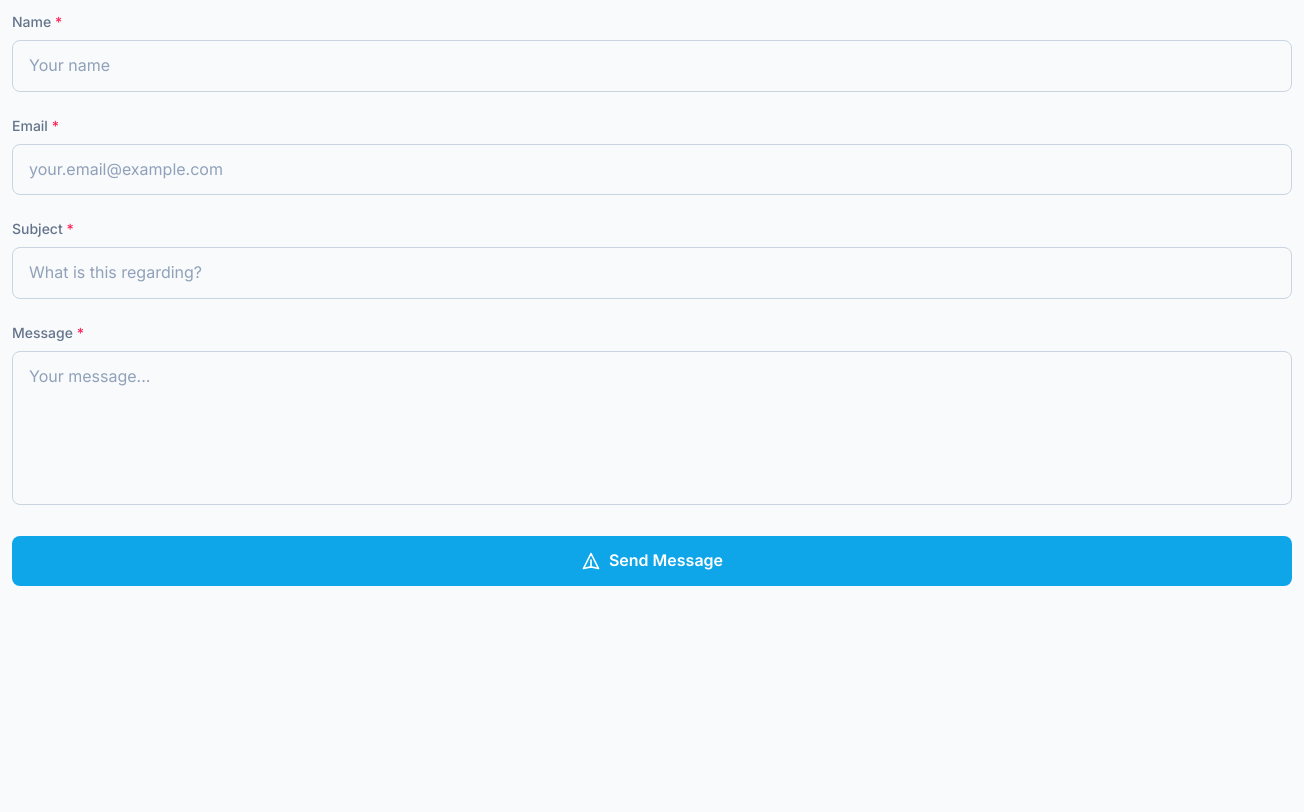
ContactForm Component › shows error for invalid email on submit
This screenshot has width=1304, height=812.
Type "John Doe" into the field labelled "Name *" at (652, 66), box [12,40,1292,92]
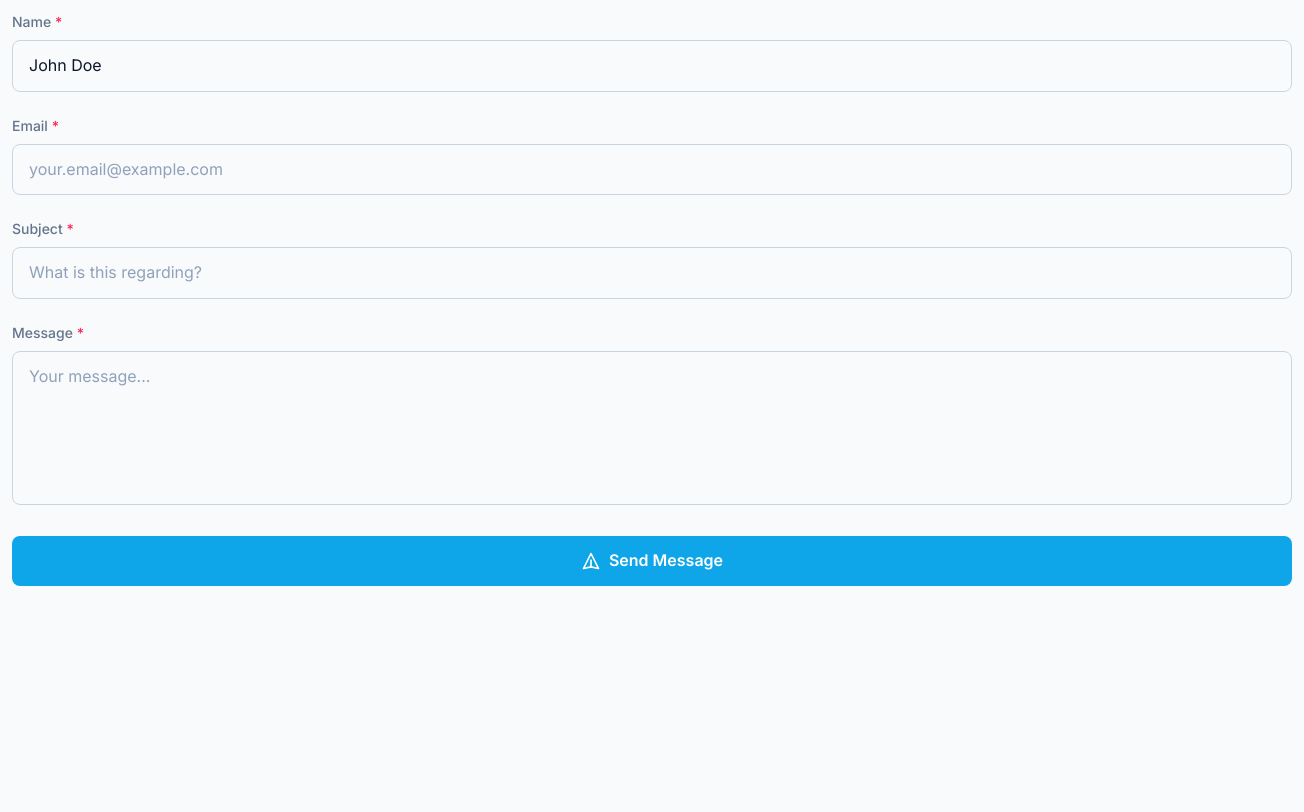
Type "invalid-email" into the field labelled "Email *" at (652, 169), box [12,144,1292,195]
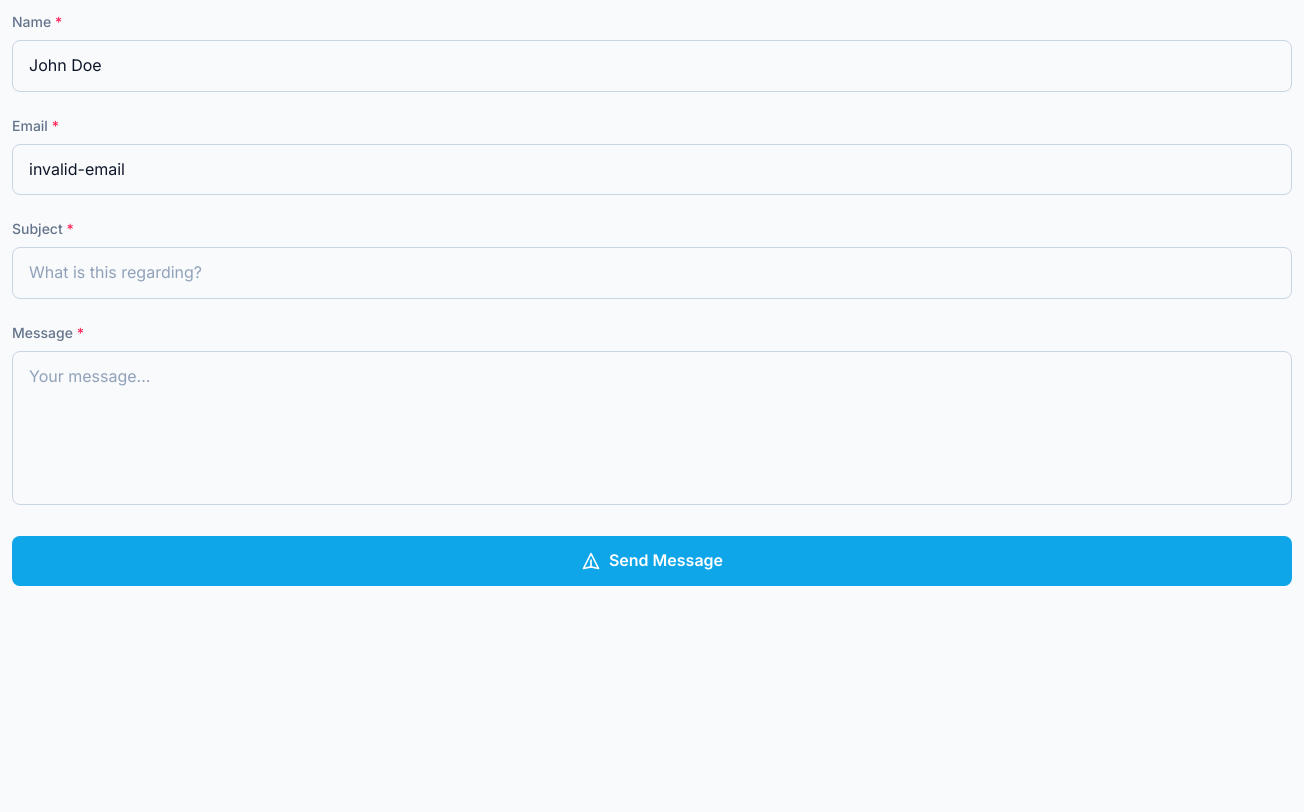
Type "Test" into the field labelled "Subject *" at (652, 273), box [12,247,1292,299]
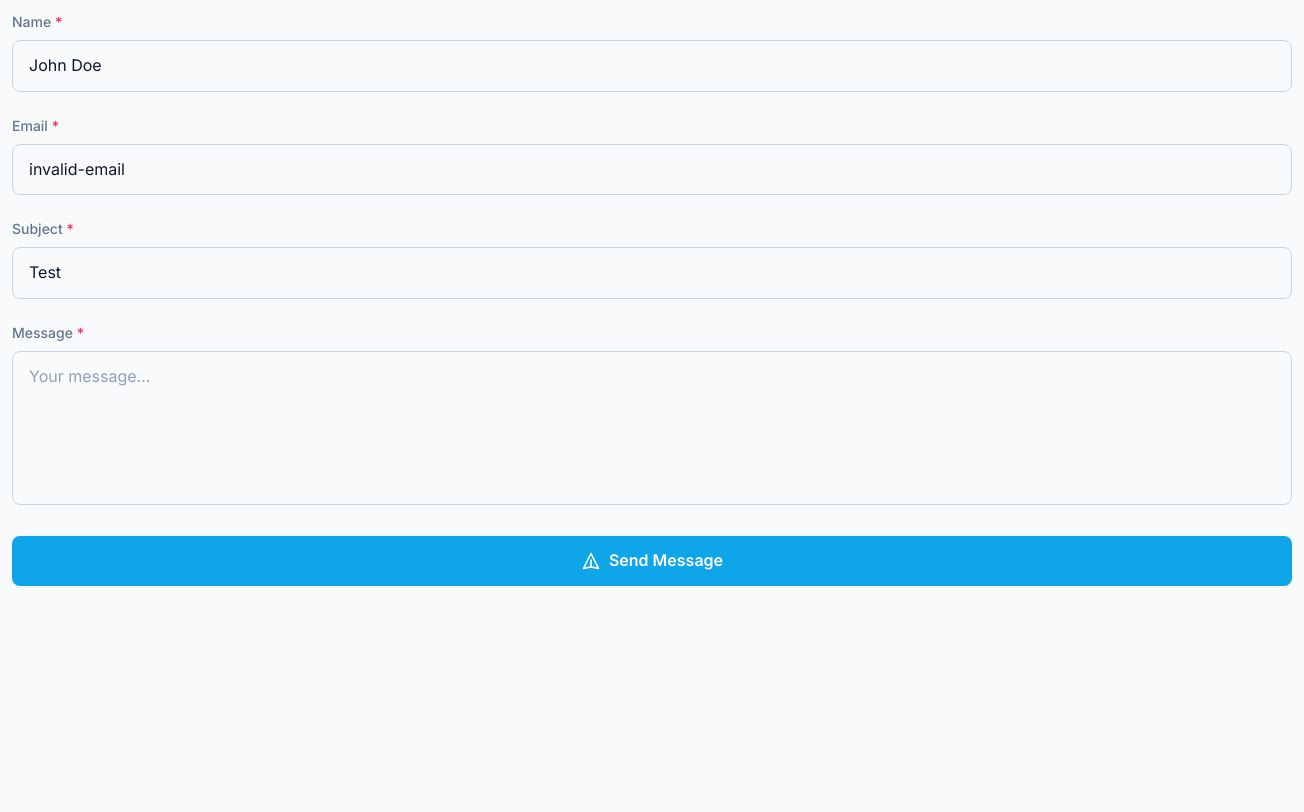
Type "A valid message text" into the text box labelled "Message *" at (652, 428), box [12,351,1292,505]
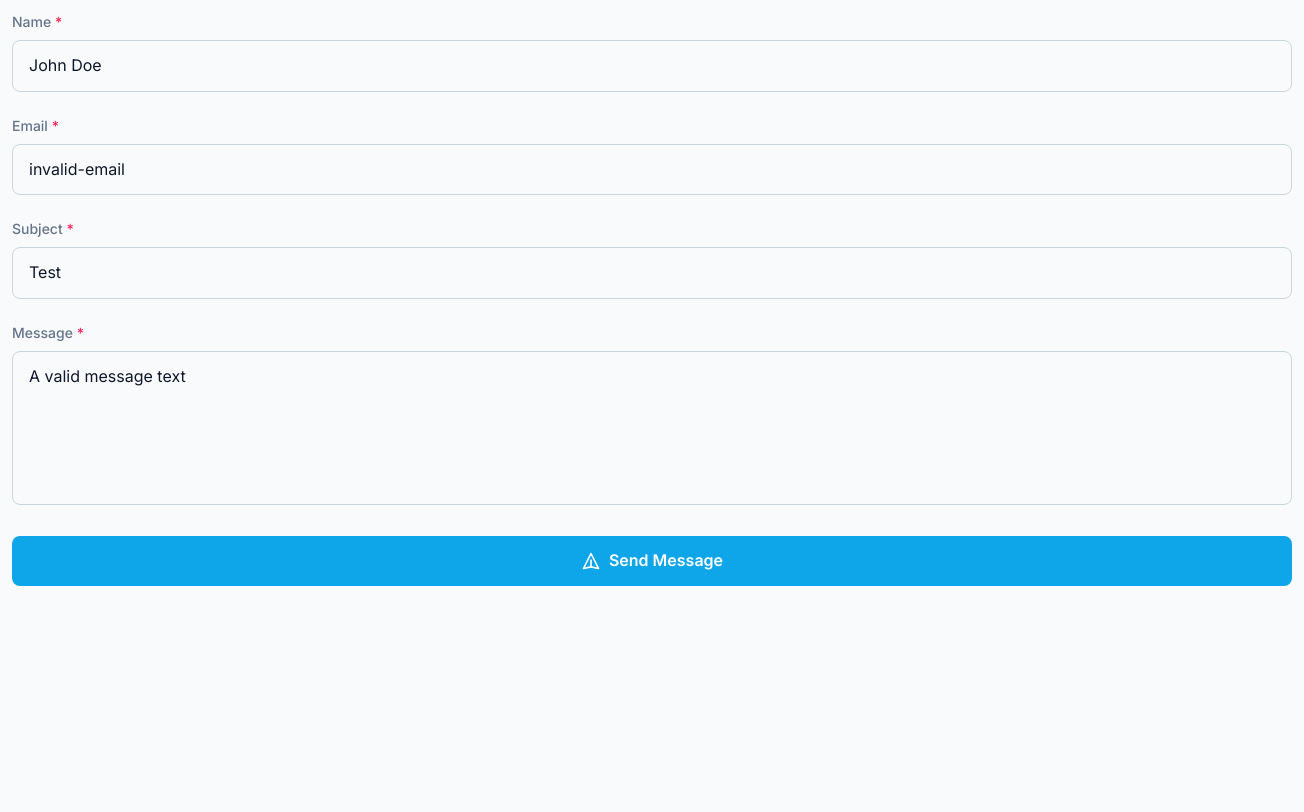
Click the button "Send Message" at (652, 561), box [12,536,1292,586]
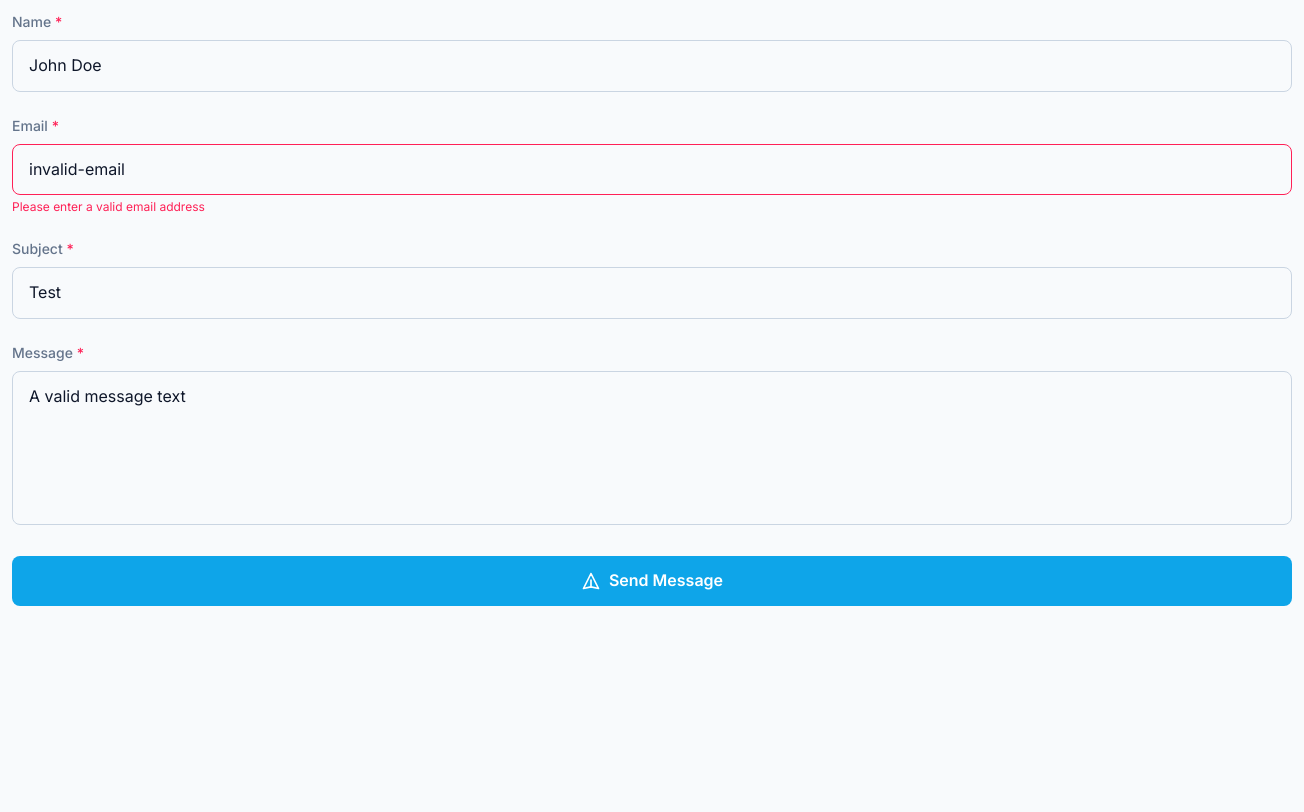
Expected: the text "Please enter a valid email address" is shown, [12,199,205,214]
